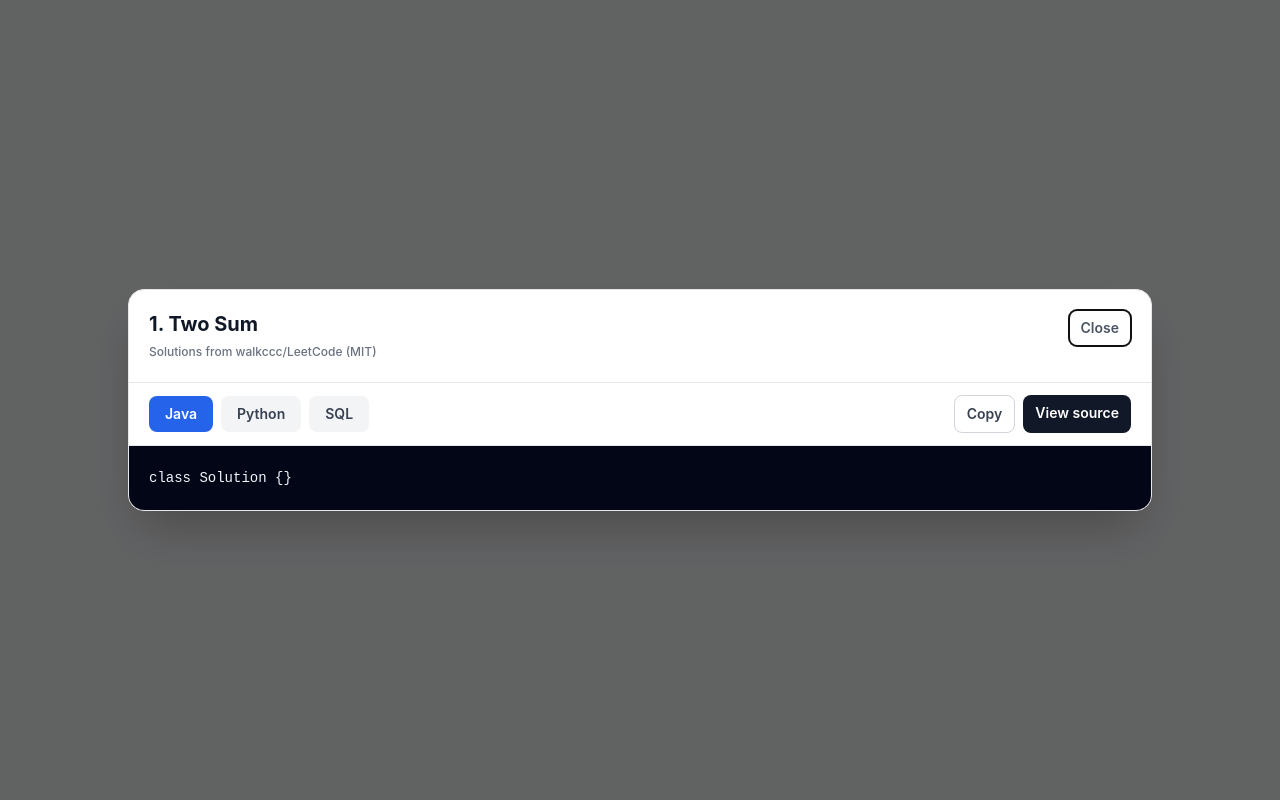
Scenario: SolutionModal › switches among available languages and omits missing ones
Expected: the text "class Solution {}" is shown, [149,470,292,486]
Click the tab "Python": (261, 414) [221,396,301,432]
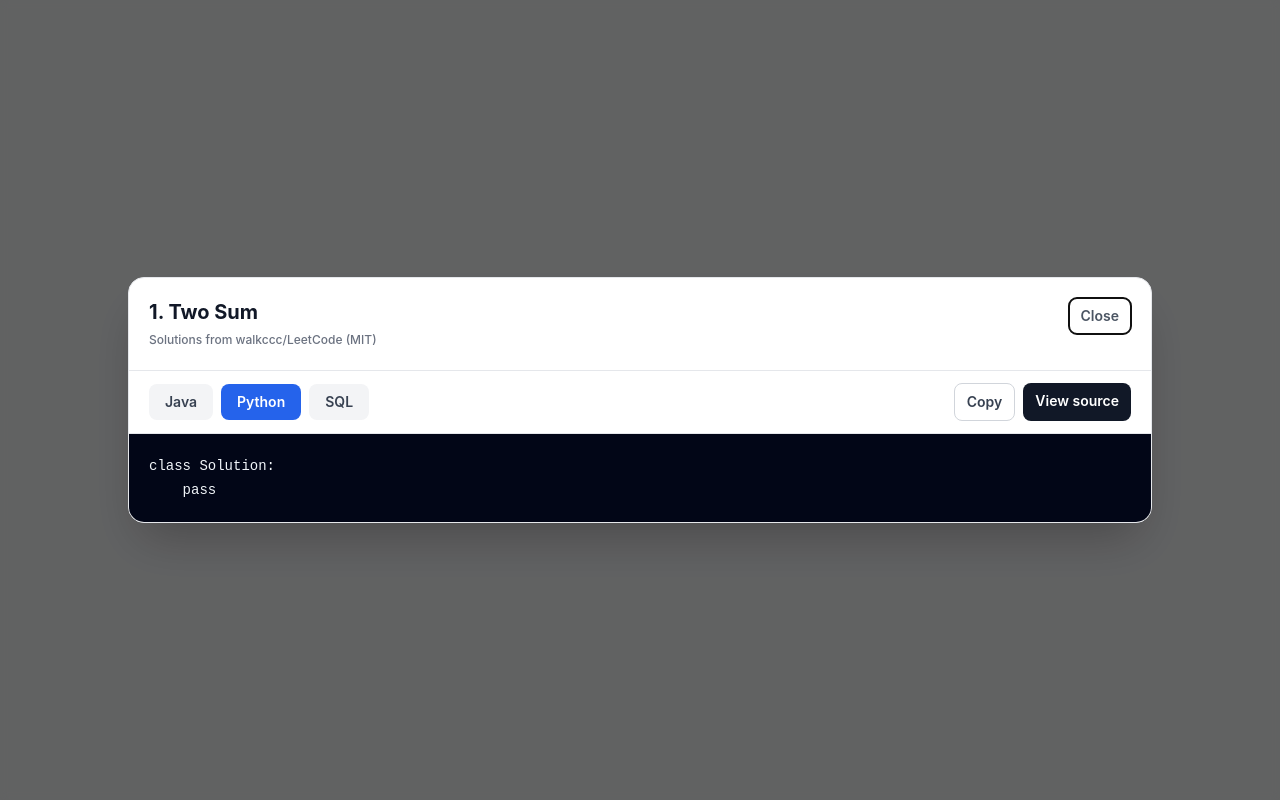
Expected: the text "class Solution: pass" is shown, [149,458,275,498]
Click the tab "SQL": (339, 402) [309,384,369,420]
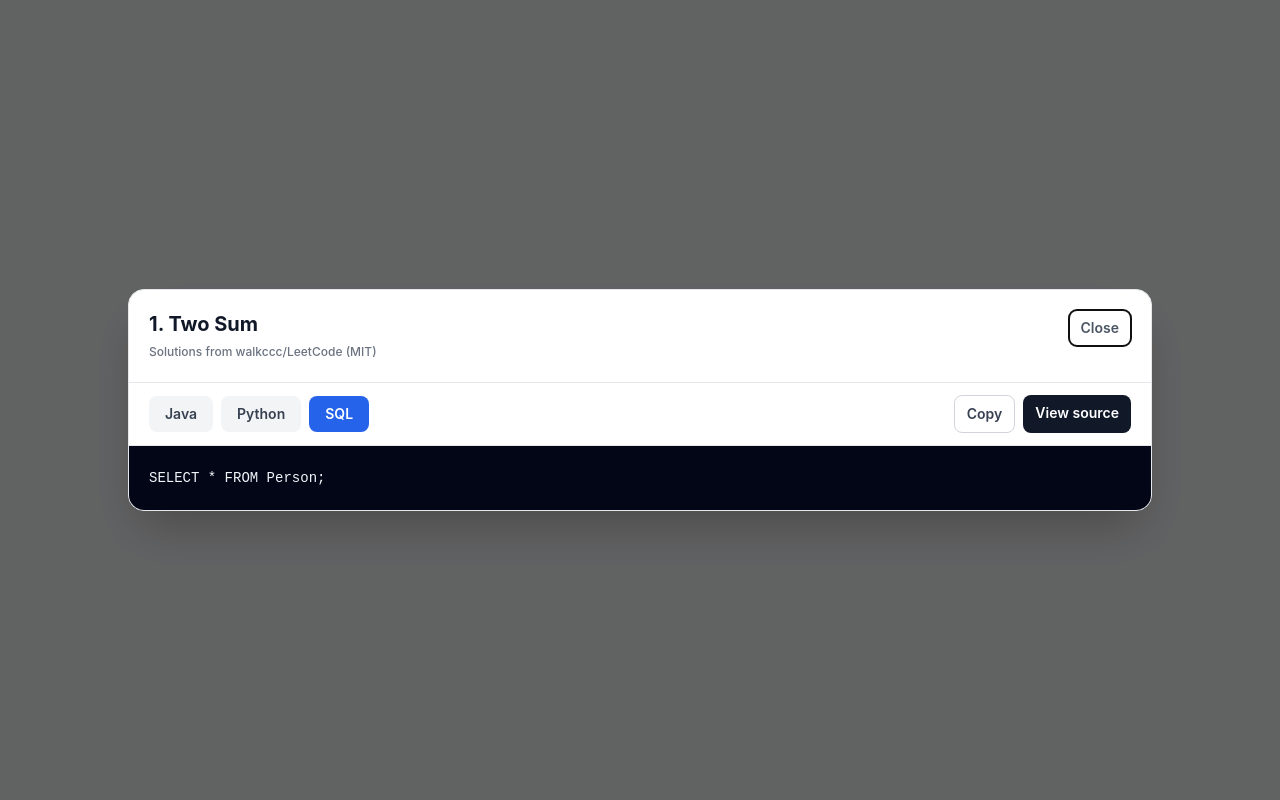
Expected: the text "SELECT * FROM Person;" is shown, [149,470,325,486]
